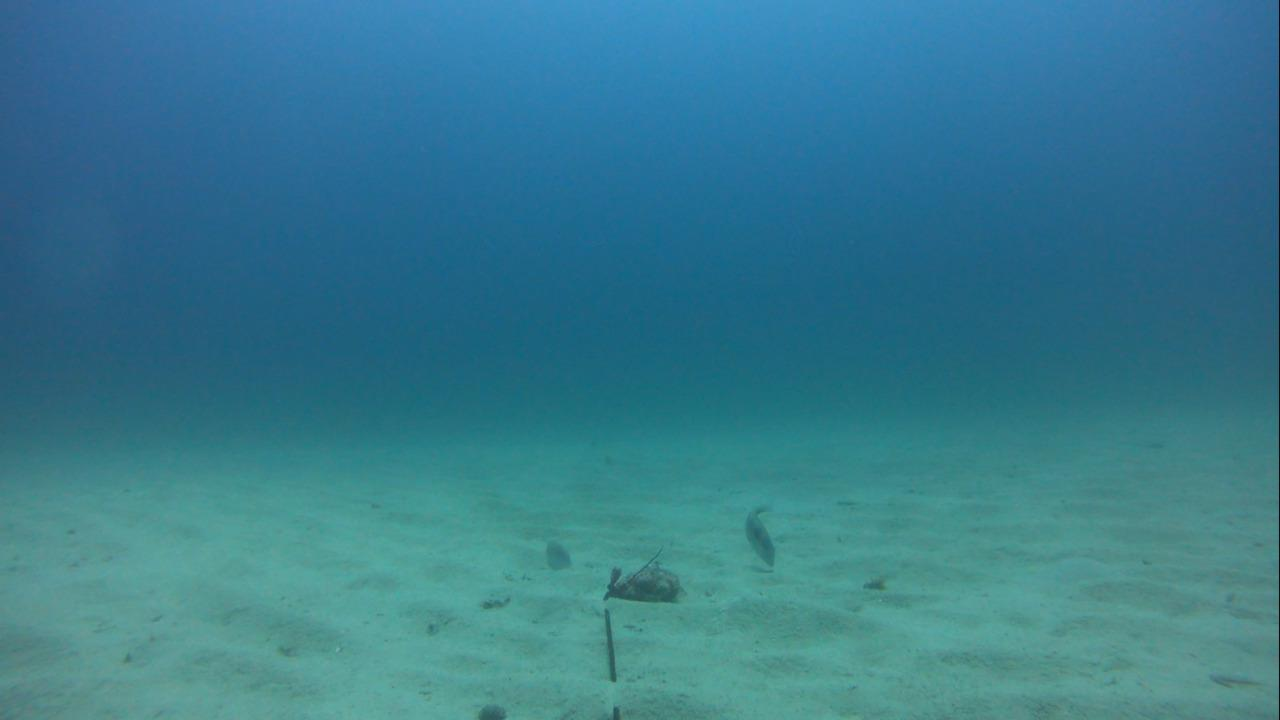raor: (742, 498, 784, 571), (532, 534, 573, 569)
